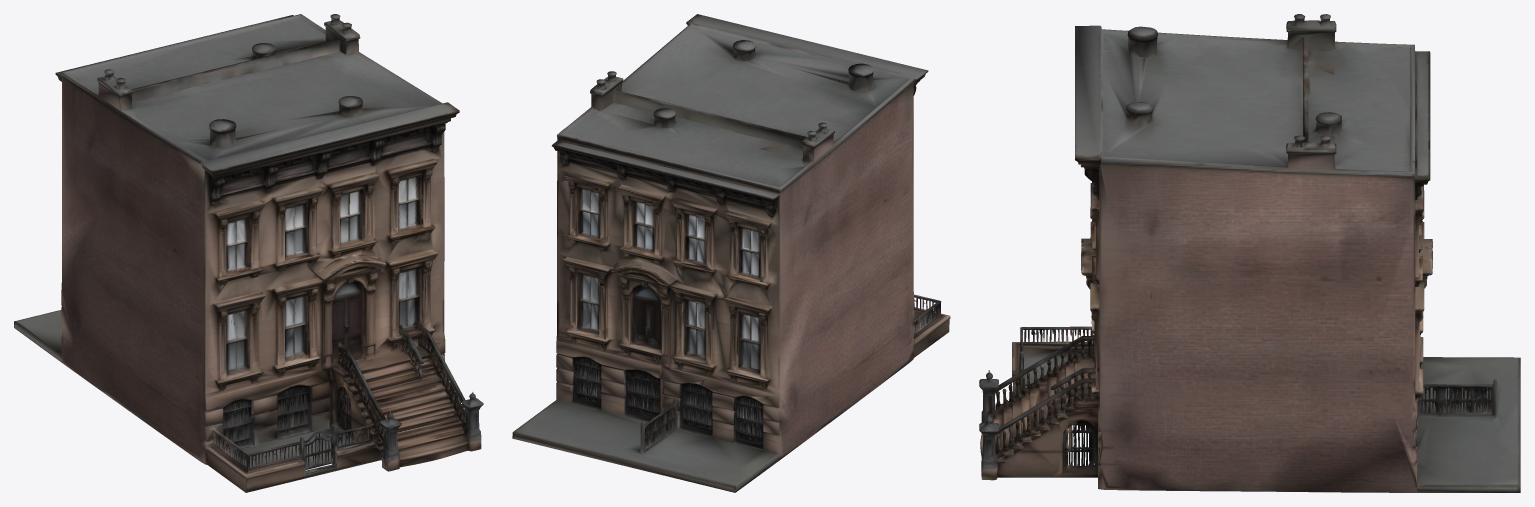
The model's file is brownstone.glb.
3 views of the same model, side by side, from view 1: azimuth 30°, elevation 25°; view 2: azimuth 150°, elevation 25°; view 3: azimuth 270°, elevation 25° (orthographic). The views are drawn at different scales.
Visible parts, largest first — view 1: node_0; view 2: node_0; view 3: node_0.
Boxes of the visible parts, x1,y1,x2,y2 form: node_0: (14,14,483,492); node_0: (512,14,950,492); node_0: (979,14,1520,492).
Size of the model in its own units: 0.5166 by 0.6382 by 0.8886.
Materials: 1 (1 with a texture image).
